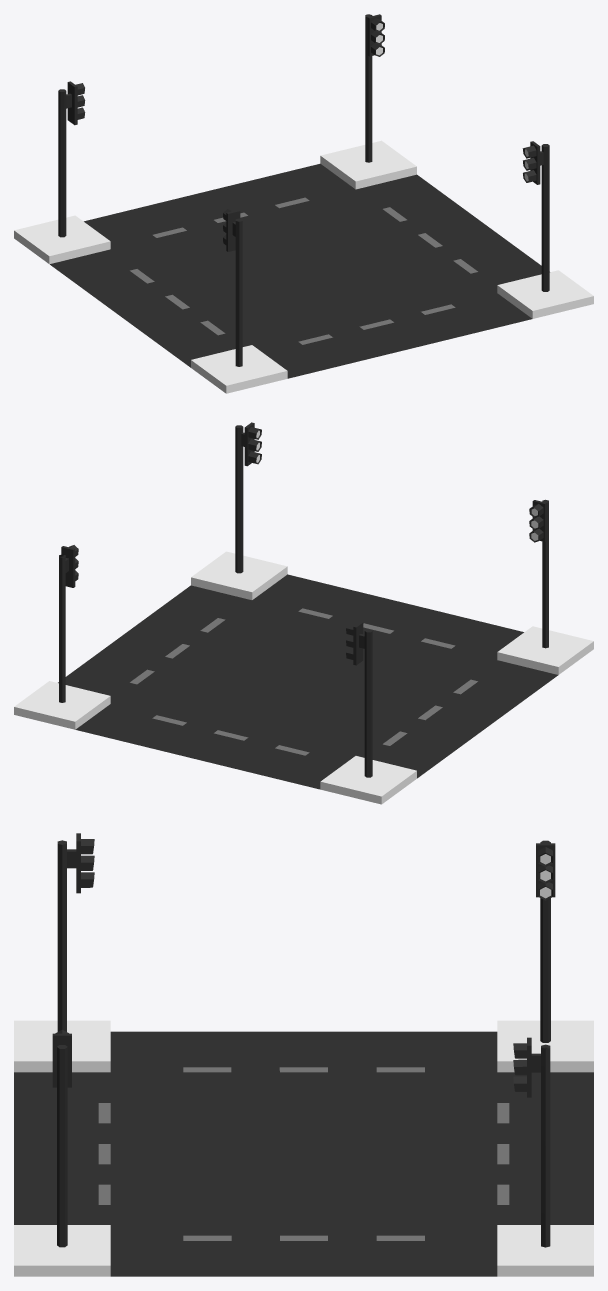
The model's file is RoadCrossLS.fbx.
3 views of the same model, one above another, from view 1: azimuth 30°, elevation 25°; view 2: azimuth 150°, elevation 25°; view 3: azimuth 270°, elevation 25° (orthographic). The views are drawn at different scales.
Parts seen in each view (by area): view 1: RoadCrossLS, TrafficLightPole (×4); view 2: RoadCrossLS, TrafficLightPole (×4); view 3: RoadCrossLS, TrafficLightPole (×4), TrafficLightTop.
Part boxes in pixels (x1=…): RoadCrossLS: x1=14, y1=140, x2=593, y2=393; TrafficLightPole (×4): x1=58, y1=14, x2=549, y2=366; RoadCrossLS: x1=14, y1=551, x2=593, y2=804; TrafficLightPole (×4): x1=59, y1=425, x2=548, y2=777; RoadCrossLS: x1=14, y1=1020, x2=593, y2=1276; TrafficLightPole (×4): x1=57, y1=840, x2=550, y2=1247; TrafficLightTop: x1=52, y1=1033, x2=71, y2=1087.
Bounding box in the file's own units: 24 × 9.8 × 24.
1 material, 1 textured.
